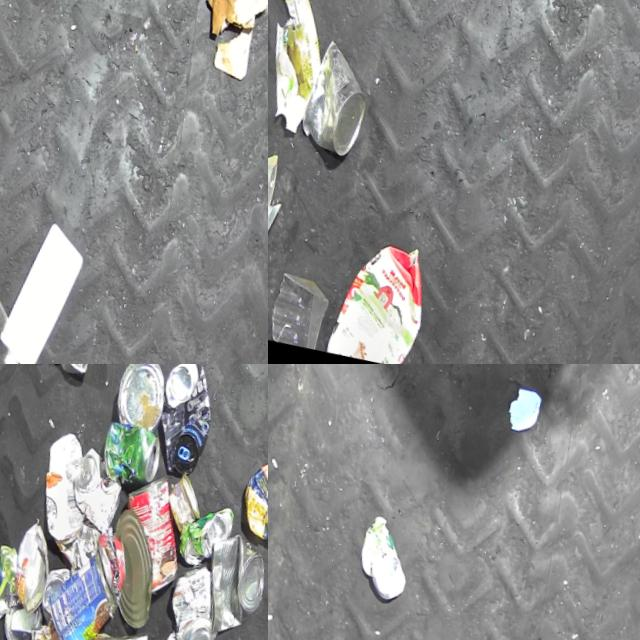can: (94, 469, 191, 600), (281, 35, 375, 160), (20, 540, 124, 640), (81, 506, 163, 632), (135, 364, 221, 480), (179, 528, 268, 640), (53, 443, 126, 538), (145, 559, 222, 640), (89, 418, 162, 492), (163, 498, 231, 575), (0, 518, 53, 616), (99, 364, 171, 433), (223, 459, 268, 550), (150, 472, 201, 538), (24, 562, 65, 627), (63, 619, 143, 640), (0, 597, 36, 640)
milk_jug: (0, 214, 92, 364)
non_white_jug: (302, 224, 429, 364)
